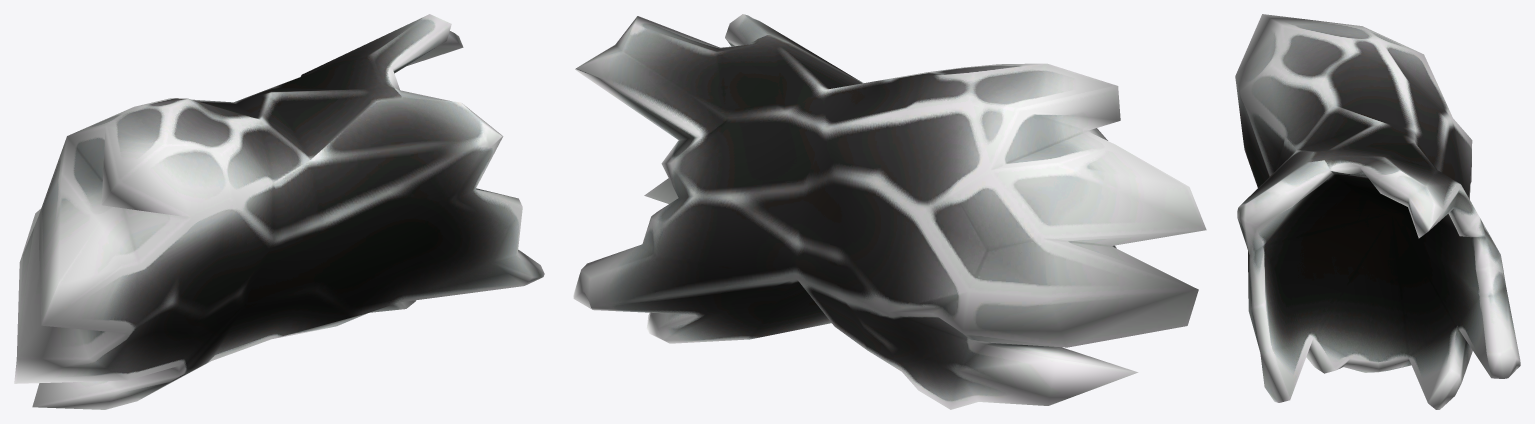
File: item_weaknumgm2501-et07.glb
The picture shows the model from 3 angles, left to right: view 1: azimuth 30°, elevation 25°; view 2: azimuth 150°, elevation 25°; view 3: azimuth 270°, elevation 25°; orthographic projection. The views are drawn at different scales.
Visible parts, largest first — view 1: FlyffMesh; view 2: FlyffMesh; view 3: FlyffMesh.
Boxes of the visible parts, x1,y1,x2,y2 form: FlyffMesh: [14, 14, 544, 409]; FlyffMesh: [573, 14, 1206, 409]; FlyffMesh: [1235, 14, 1520, 409].
Bounding box in the file's own units: 0.6683 × 0.3619 × 0.3364.
Materials: 1 (1 with a texture image).
